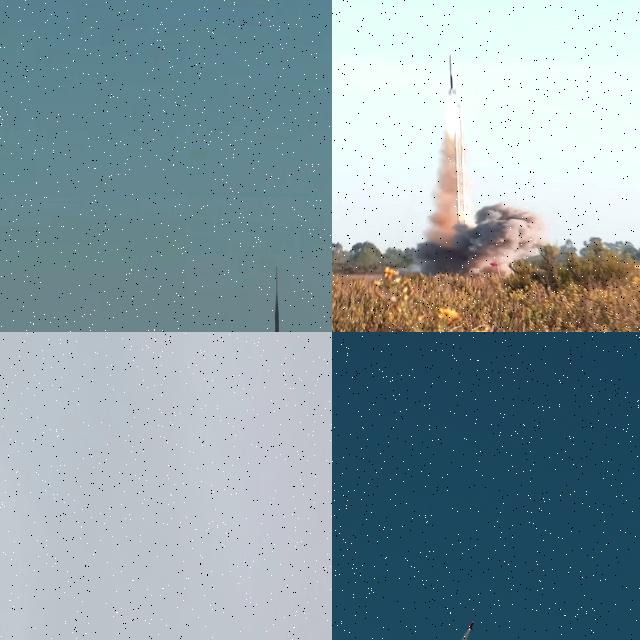Rocket: (448, 52, 457, 96), (272, 291, 281, 332), (466, 621, 475, 630)
